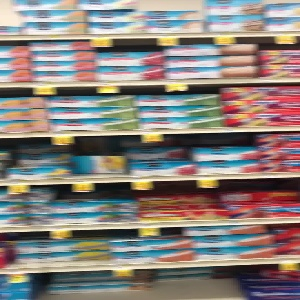void: (39, 274, 241, 300)
